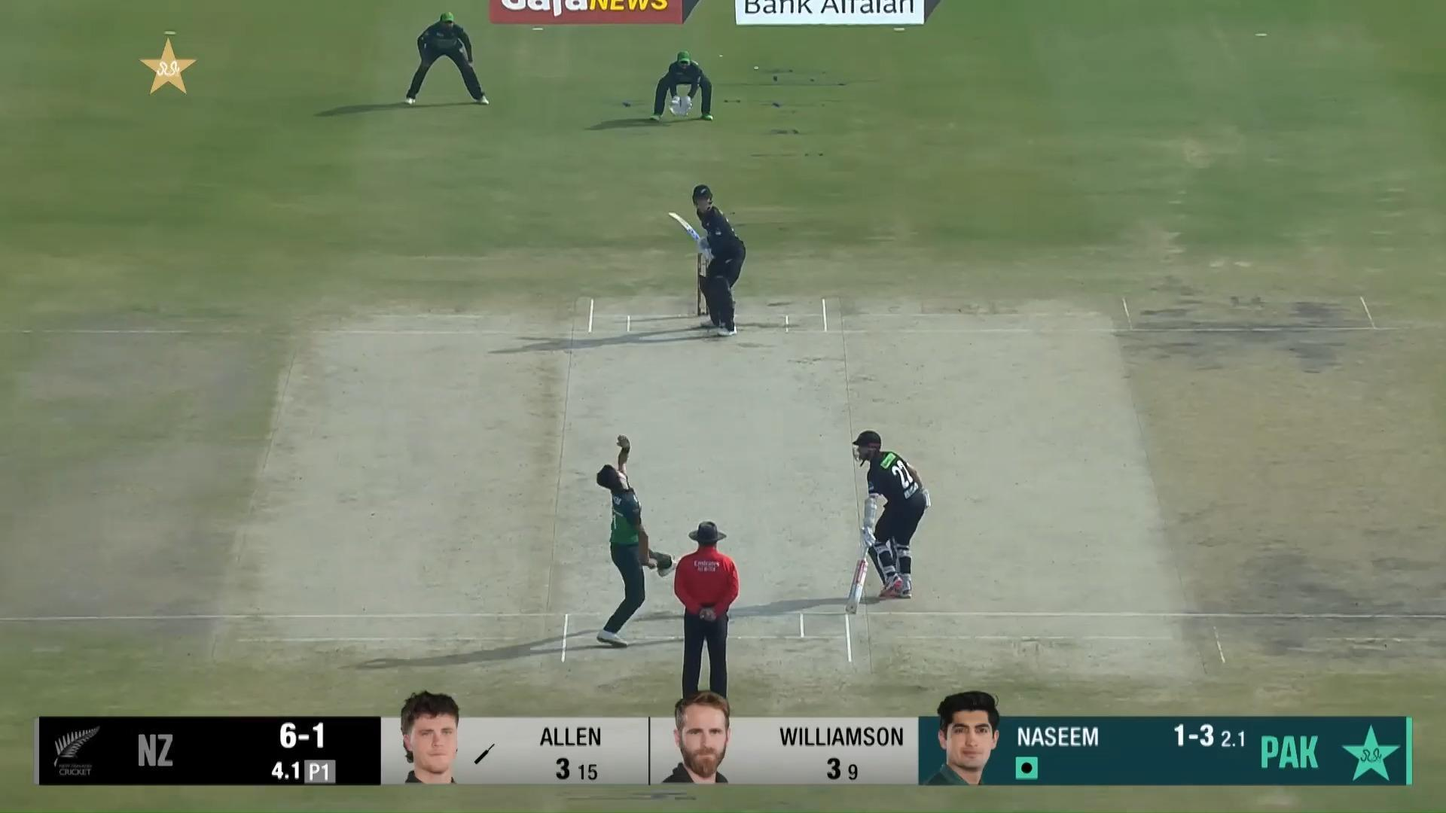BM 1: (668, 185, 746, 338)
BO: (593, 432, 683, 650)
